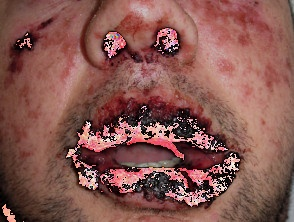SJS-TEN: (61, 86, 247, 215), (0, 0, 104, 189), (184, 0, 294, 110), (92, 0, 197, 85)
